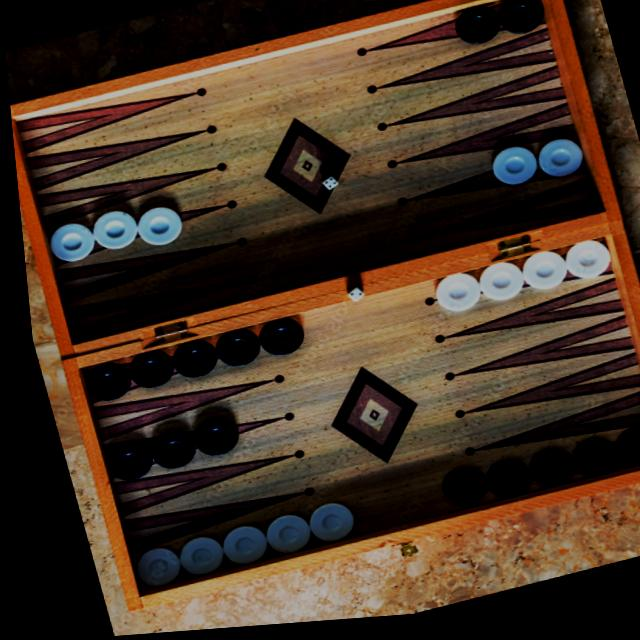bar: (62, 221, 603, 371)
board: (1, 0, 640, 603)
dark_p: (556, 438, 618, 492), (469, 458, 529, 511), (487, 0, 550, 50), (446, 6, 505, 59), (423, 466, 482, 518), (178, 412, 234, 465), (158, 336, 215, 387), (134, 425, 190, 476), (93, 437, 149, 488), (113, 347, 171, 395), (247, 315, 303, 364), (202, 327, 258, 376), (71, 359, 127, 408), (513, 452, 568, 500), (599, 428, 640, 482)
dice: (311, 176, 339, 199), (336, 288, 362, 309)
light_p: (550, 240, 613, 294), (419, 271, 480, 326), (462, 261, 524, 315), (503, 251, 566, 304), (115, 542, 175, 596), (159, 533, 219, 586), (246, 510, 306, 563), (526, 139, 584, 193), (125, 201, 183, 253), (79, 205, 138, 256), (37, 217, 95, 268), (482, 146, 538, 197), (291, 502, 348, 551), (206, 524, 261, 572)
